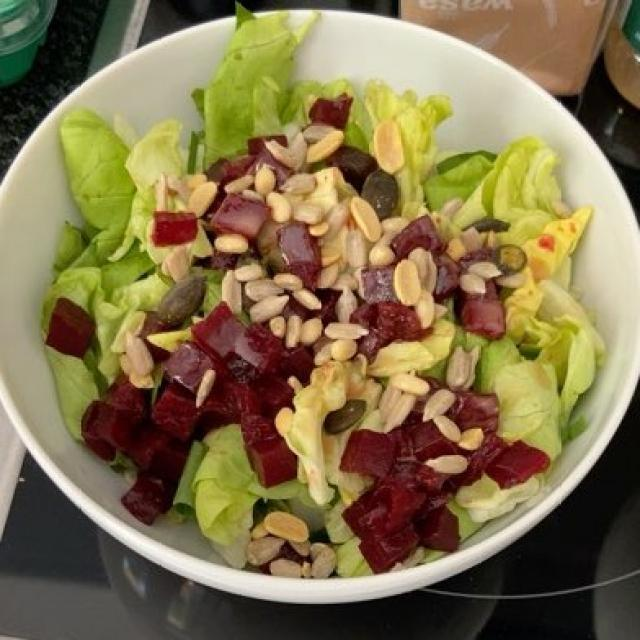beetroot: (49, 124, 534, 545)
mixed-seeds: (126, 113, 497, 569)
salad: (58, 28, 602, 577)
